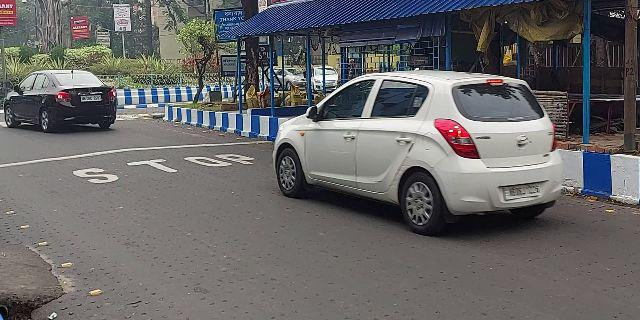Car: (273, 66, 583, 230), (2, 65, 121, 132)
